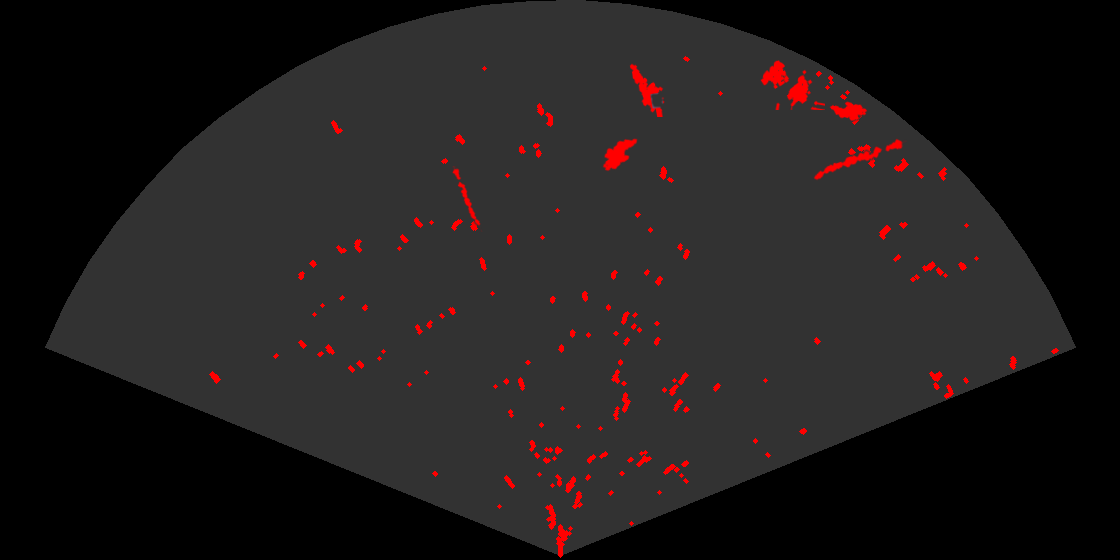AUV: (601, 137, 639, 173), (828, 100, 869, 123)
cage: (759, 59, 825, 110)
chain: (812, 137, 907, 182), (451, 166, 483, 232)
frogman: (628, 62, 666, 117)
